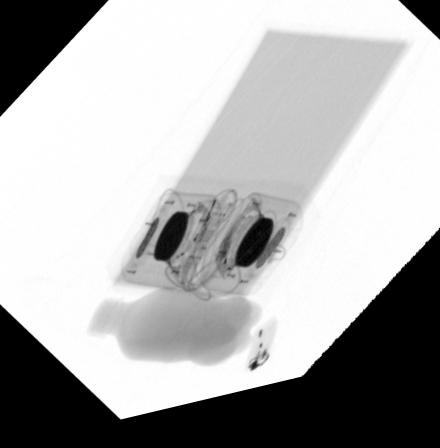Lighter: (245, 330, 277, 384)
